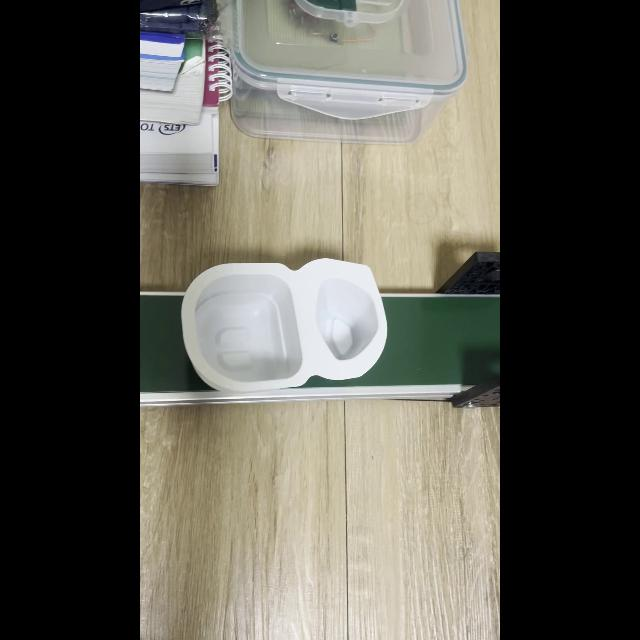clean: (192, 266, 366, 379)
